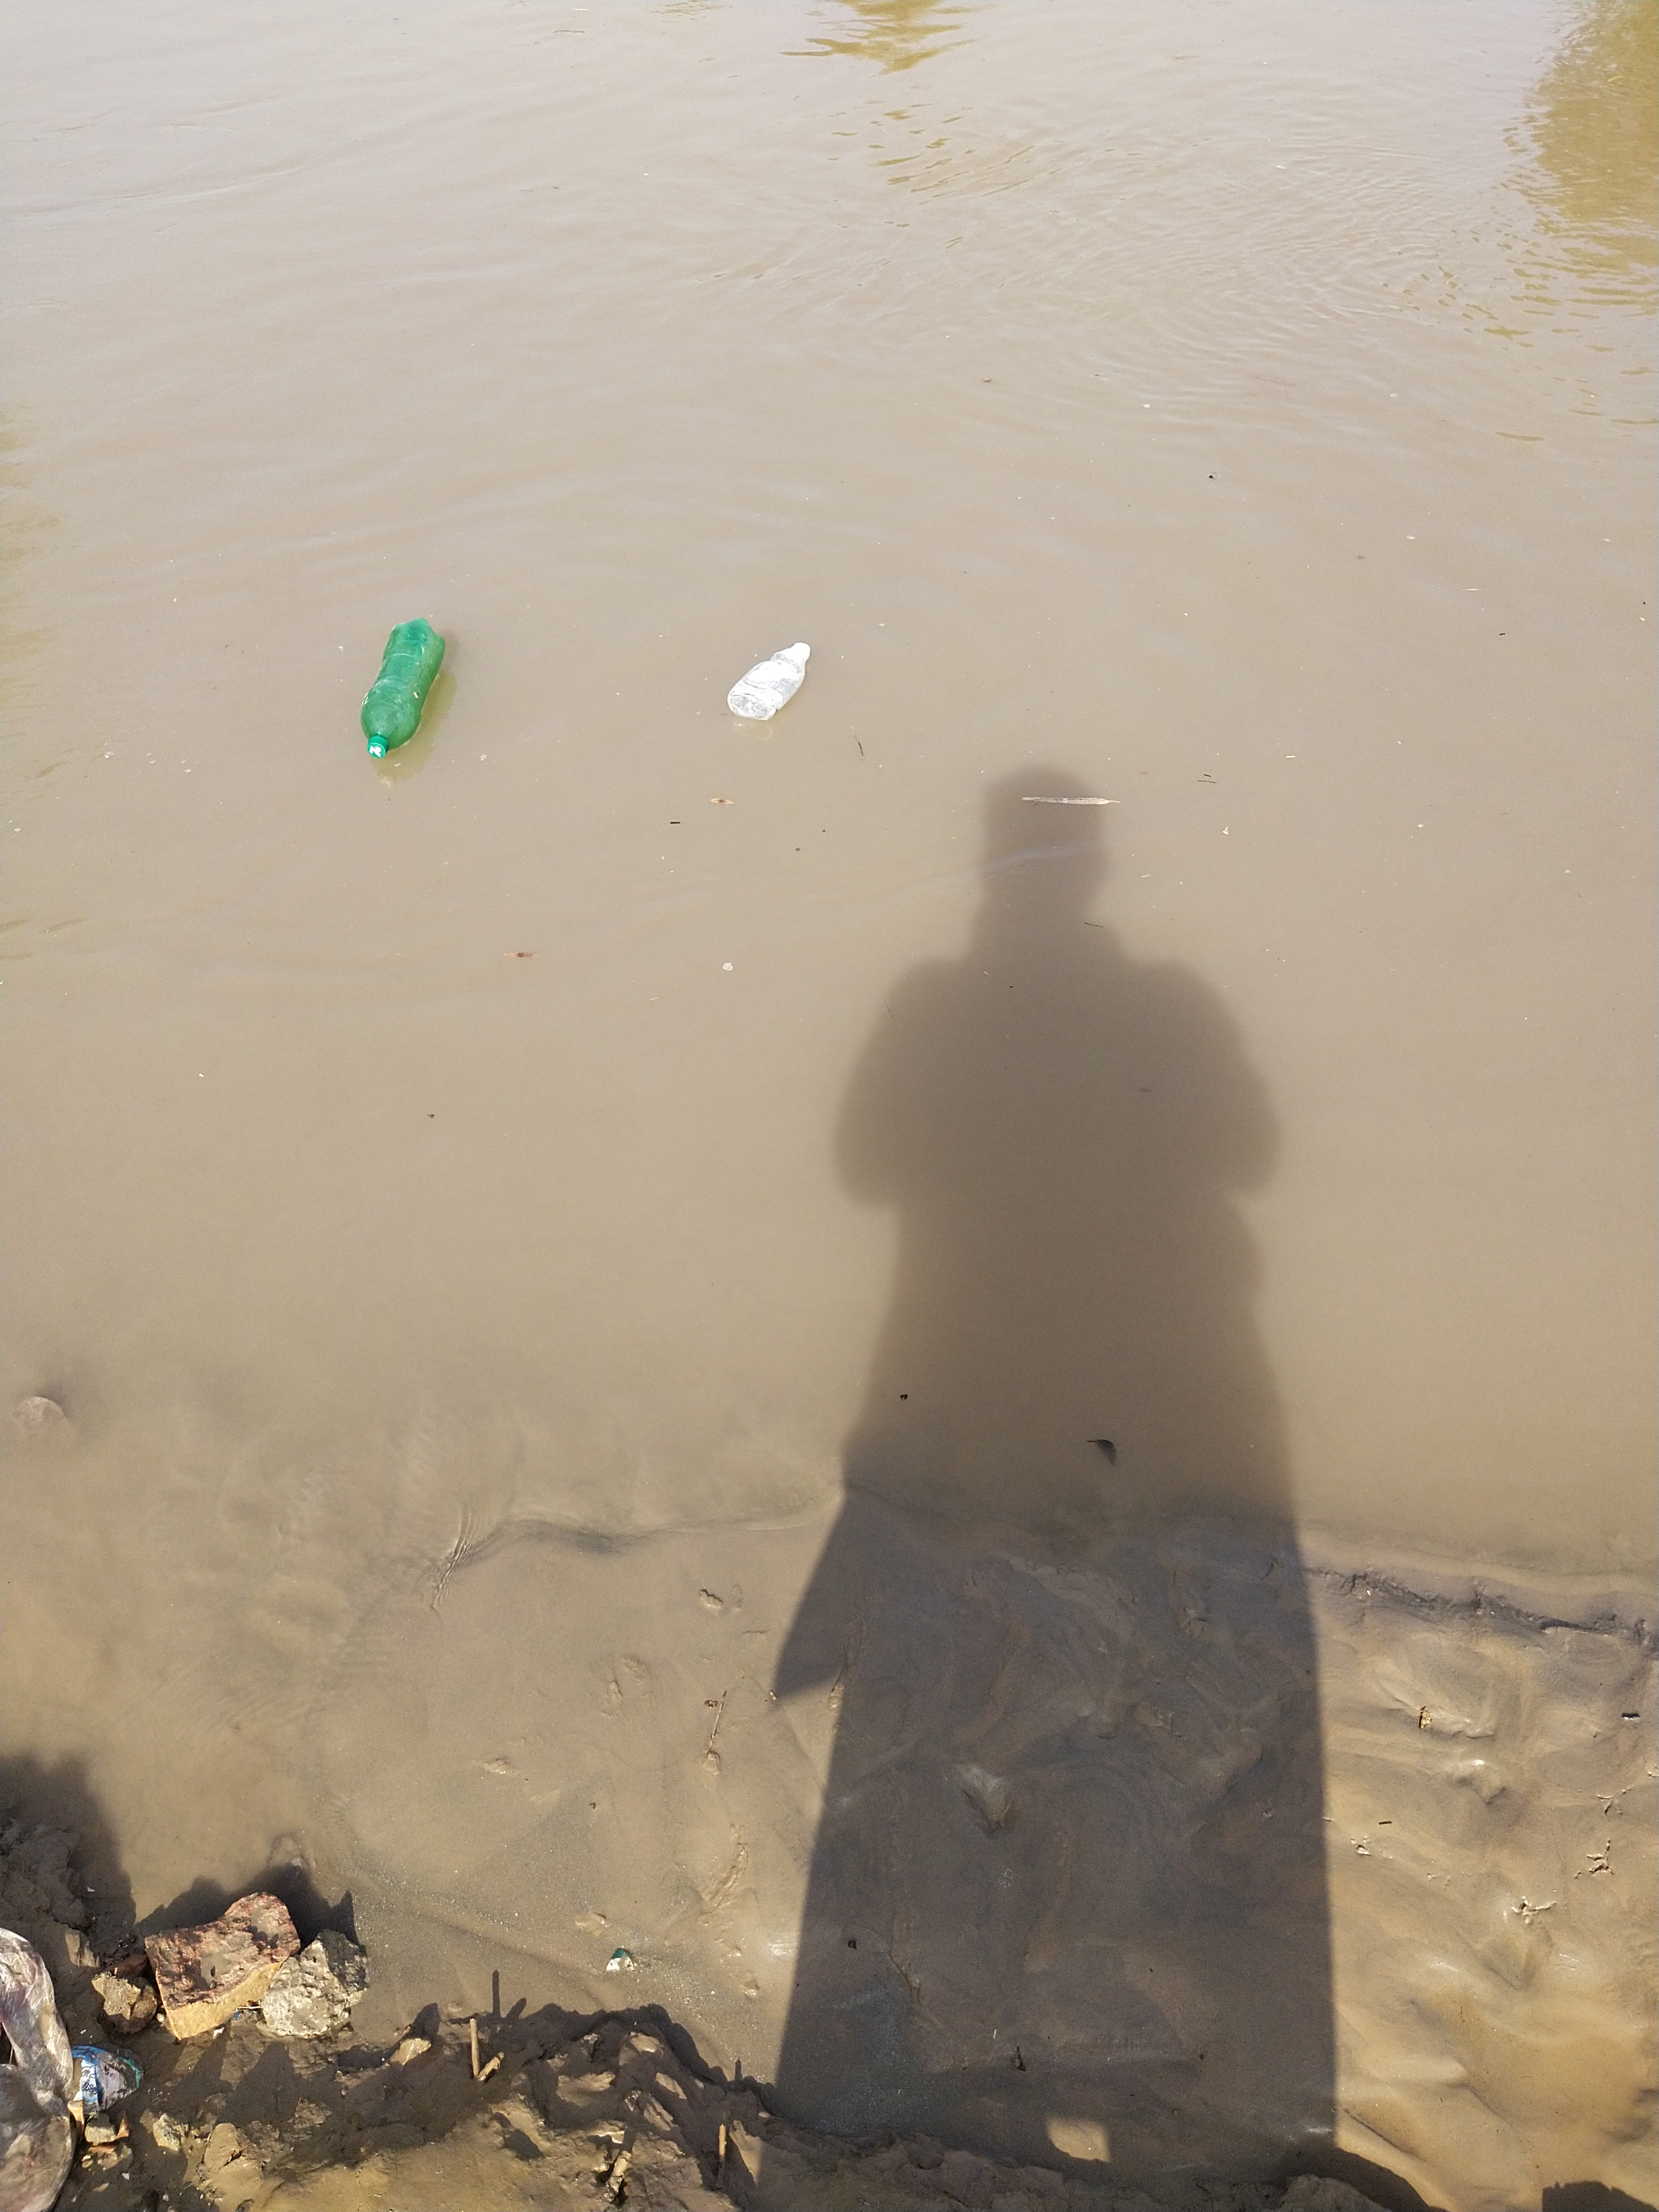Plastic Bottle: (361, 618, 446, 758), (727, 641, 812, 719)
